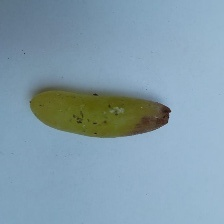grapes: (18, 37, 206, 216)
